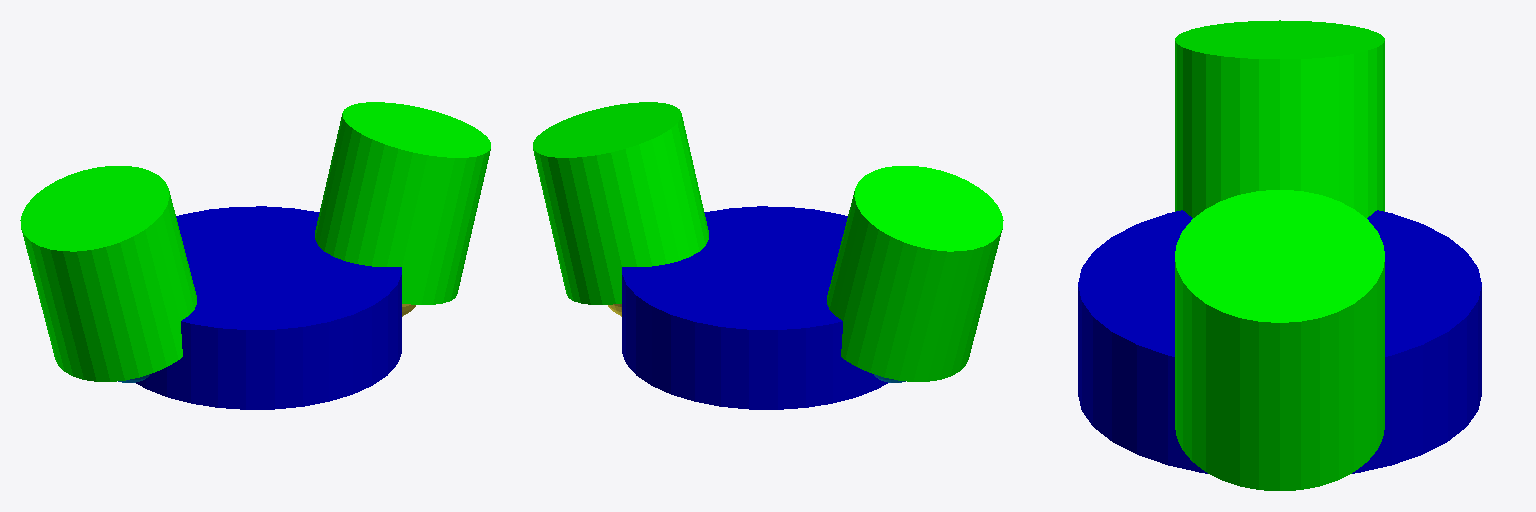
URDF robot description (gripper_2f_1j):
<?xml version='1.0' encoding='UTF-8'?>
<robot name="gripper_2f_1j">
  <link name="palm">
    <inertial>
      <origin xyz="0.0 0.0 0.0" rpy="0.0 -0.0 0.0"/>
      <mass value="1.0"/>
      <inertia ixx="1.0" ixy="0.0" ixz="0.0" iyy="1.0" iyz="0.0" izz="1.0"/>
    </inertial>
    <visual>
      <geometry>
        <cylinder radius="0.05" length="0.03"/>
      </geometry>
      <material name="blue"/>
      <origin xyz="0.0 0.0 0.0" rpy="0.0 -0.0 0.0"/>
    </visual>
    <collision>
      <geometry>
        <cylinder radius="0.05" length="0.03"/>
      </geometry>
      <origin xyz="0.0 0.0 0.0" rpy="0.0 0.0 0.0"/>
    </collision>
  </link>
  <link name="f11">
    <inertial>
      <origin xyz="0.0 0.0 0.0" rpy="0.0 -0.0 0.0"/>
      <mass value="1.0"/>
      <inertia ixx="1.0" ixy="0.0" ixz="0.0" iyy="1.0" iyz="0.0" izz="1.0"/>
    </inertial>
    <visual>
      <geometry>
        <cylinder radius="0.026050772308990142" length="0.053865779561189736"/>
      </geometry>
      <material name="green"/>
      <origin xyz="0.0 0.0 0.026932889780594868" rpy="0.0 -0.0 0.0"/>
    </visual>
    <collision>
      <geometry>
        <cylinder radius="0.026050772308990142" length="0.053865779561189736"/>
      </geometry>
      <origin xyz="0.0 0.0 0.05" rpy="0.0 0.0 0.0"/>
    </collision>
  </link>
  <link name="f21">
    <inertial>
      <origin xyz="0.0 0.0 0.0" rpy="0.0 -0.0 0.0"/>
      <mass value="1.0"/>
      <inertia ixx="1.0" ixy="0.0" ixz="0.0" iyy="1.0" iyz="0.0" izz="1.0"/>
    </inertial>
    <visual>
      <geometry>
        <cylinder radius="0.026050772308990142" length="0.053865779561189736"/>
      </geometry>
      <material name="green"/>
      <origin xyz="0.0 0.0 0.026932889780594868" rpy="0.0 -0.0 0.0"/>
    </visual>
    <collision>
      <geometry>
        <cylinder radius="0.026050772308990142" length="0.053865779561189736"/>
      </geometry>
      <origin xyz="0.0 0.0 0.05" rpy="0.0 0.0 0.0"/>
    </collision>
  </link>
  <link name="f11_base">
    <inertial>
      <origin xyz="0.0 0.0 0.0" rpy="0.0 -0.0 0.0"/>
      <mass value="1.0"/>
      <inertia ixx="1.0" ixy="0.0" ixz="0.0" iyy="1.0" iyz="0.0" izz="1.0"/>
    </inertial>
    <visual>
      <geometry>
        <sphere radius="0.015"/>
      </geometry>
      <origin xyz="0.0 0.0 0.0" rpy="0.0 -0.0 0.0"/>
    </visual>
  </link>
  <link name="f21_base">
    <inertial>
      <origin xyz="0.0 0.0 0.0" rpy="0.0 -0.0 0.0"/>
      <mass value="1.0"/>
      <inertia ixx="1.0" ixy="0.0" ixz="0.0" iyy="1.0" iyz="0.0" izz="1.0"/>
    </inertial>
    <visual>
      <geometry>
        <sphere radius="0.015"/>
      </geometry>
      <origin xyz="0.0 0.0 0.0" rpy="0.0 -0.0 0.0"/>
    </visual>
  </link>
  <joint name="f11_joint" type="revolute">
    <dynamics damping="100.0" friction="1.0"/>
    <limit effort="30.0" velocity="2.0" lower="-0.6" upper="0.25"/>
    <parent link="f11_base"/>
    <child link="f11"/>
    <axis xyz="0. 1. 0."/>
    <origin xyz="0.0 0.0 0.0" rpy="0.0 0.25 0.0"/>
  </joint>
  <joint name="f21_joint" type="revolute">
    <dynamics damping="100.0" friction="1.0"/>
    <limit effort="30.0" velocity="2.0" lower="-0.6" upper="0.25"/>
    <parent link="f21_base"/>
    <child link="f21"/>
    <axis xyz=" 0. -1.  0."/>
    <origin xyz="0.0 0.0 0.0" rpy="0.0 -0.25 0.0"/>
  </joint>
  <joint name="f11_base_joint" type="fixed">
    <parent link="palm"/>
    <child link="f11_base"/>
    <axis xyz="1. 0. 0."/>
    <origin xyz="0.05 0.0 0.0" rpy="0.0 0.0 0.0"/>
  </joint>
  <joint name="f21_base_joint" type="fixed">
    <parent link="palm"/>
    <child link="f21_base"/>
    <axis xyz="1. 0. 0."/>
    <origin xyz="-0.05 -0.0 0.0" rpy="0.0 0.0 0.0"/>
  </joint>
  <material name="blue">
    <color rgba="0.  0.  0.8 1. "/>
  </material>
  <material name="green">
    <color rgba="0. 1. 0. 1."/>
  </material>
</robot>

--- What the picture shows (computed from the rendered views, not written in the file) ---
3 views of the same robot in one strip: view 1: azimuth 30°, elevation 25°; view 2: azimuth 150°, elevation 25°; view 3: azimuth 270°, elevation 25° (orthographic).
Model gripper_2f_1j with 5 links and 4 joints (2 revolute, 2 fixed), rooted at palm, posed every joint at zero.
Visible links, largest first — view 1: palm, f21, f11; view 2: palm, f21, f11; view 3: f11, palm, f21.
Boxes of the visible links, box(x1,y1,x2,y2) form: palm: box(136, 206, 401, 409); f21: box(20, 166, 196, 381); f11: box(315, 102, 490, 304); palm: box(622, 206, 887, 409); f21: box(827, 166, 1003, 381); f11: box(533, 102, 708, 304); f11: box(1175, 190, 1384, 490); palm: box(1078, 210, 1481, 473); f21: box(1175, 20, 1384, 217).
Bounding box of the posed robot: 0.1771 × 0.1 × 0.0736 m (x, y, z).
Geometry: primitives only (box / cylinder / sphere), no mesh files.